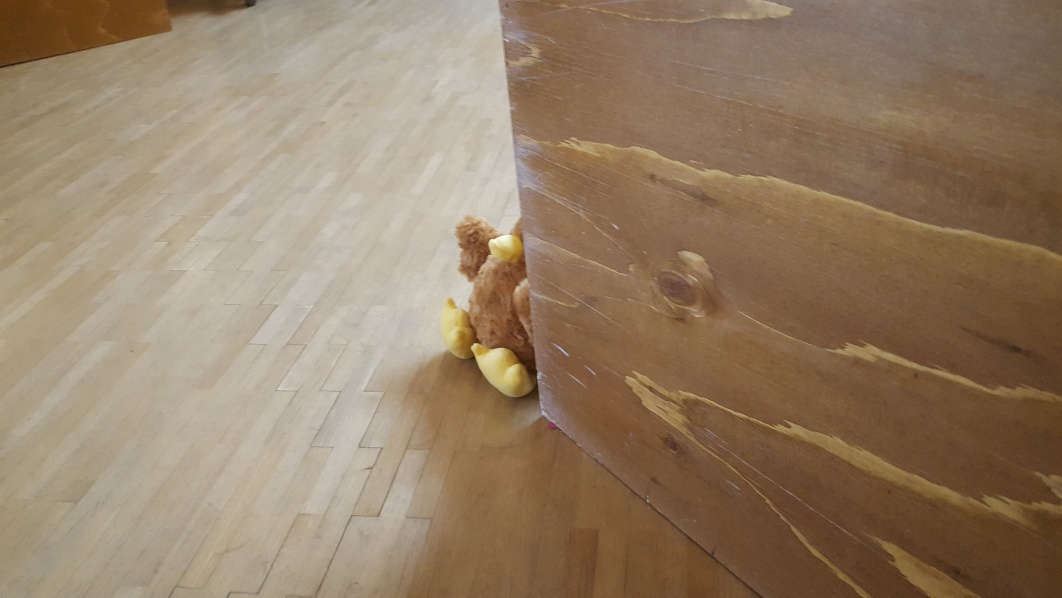chicken: (443, 201, 540, 403)
